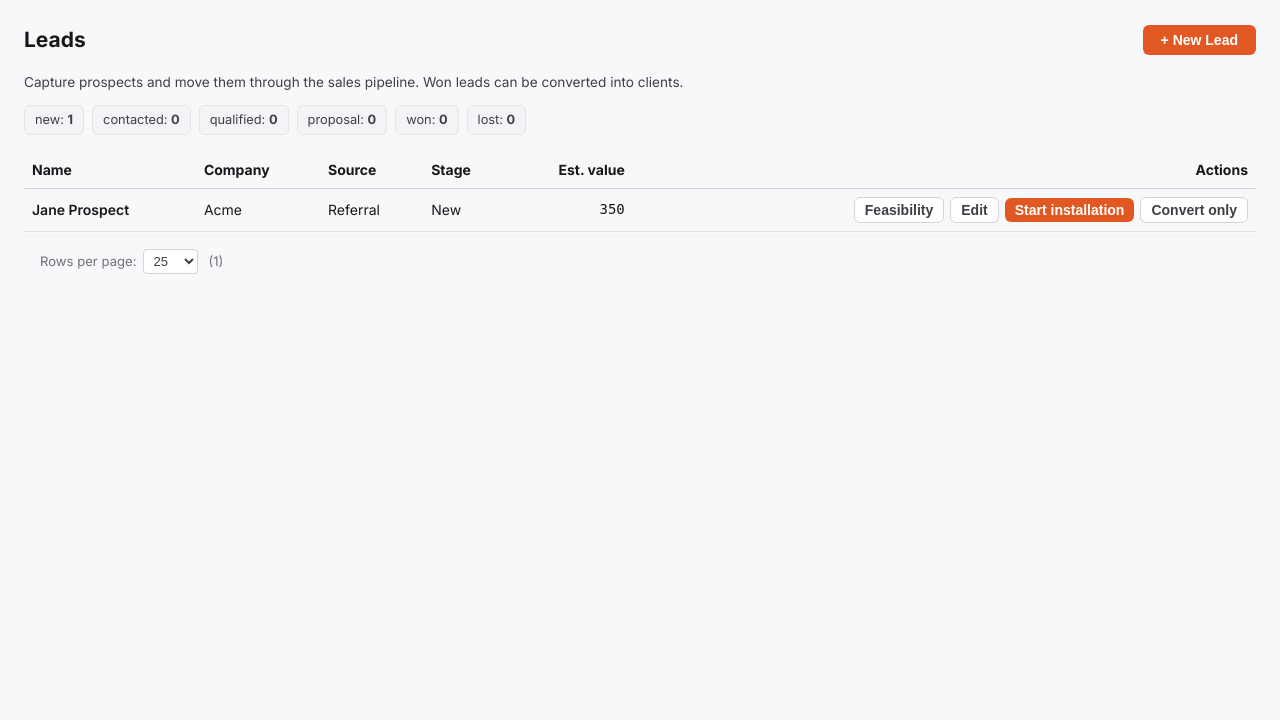
LeadList — feasibility and desired plan › explains when the lead has no coordinates instead of showing empty sections
Expected: the text "Jane Prospect" is shown, [24,188,196,231]
Click the button "Feasibility". click: click(899, 210)
box: [854,197,944,223]
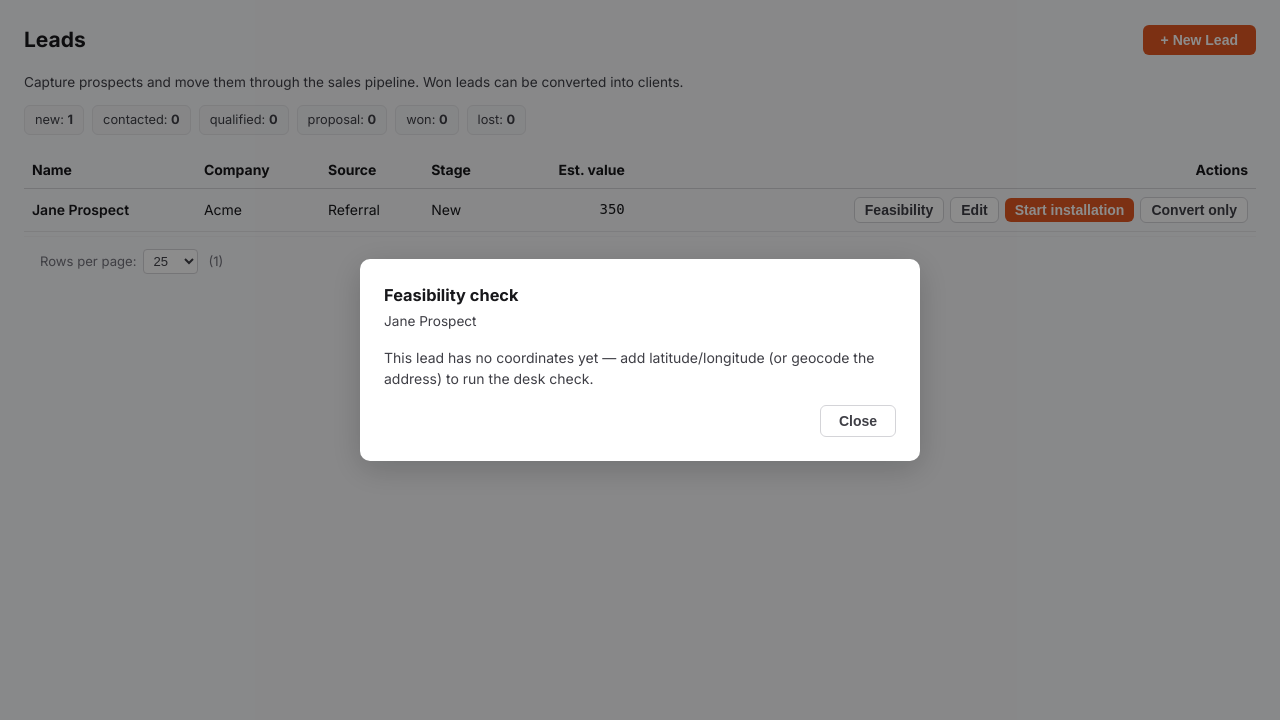
Expected: the text "no coordinates yet" is shown, [384,350,874,388]
